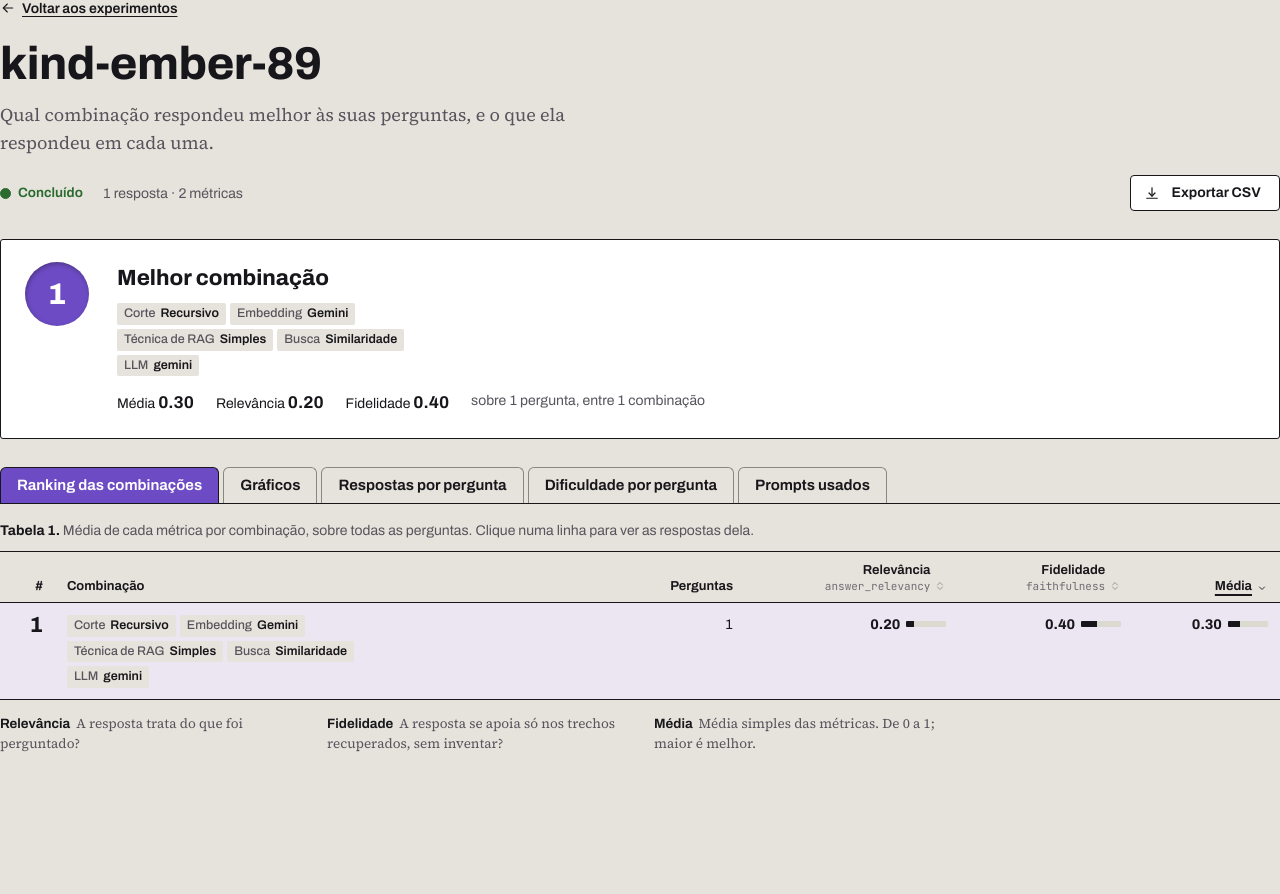
ExperimentDetailPage › shows the question type and bridge entities in the drawer
Step 1. Click the tab "Respostas por pergunta" → (422, 485), box [321,467,524,503]
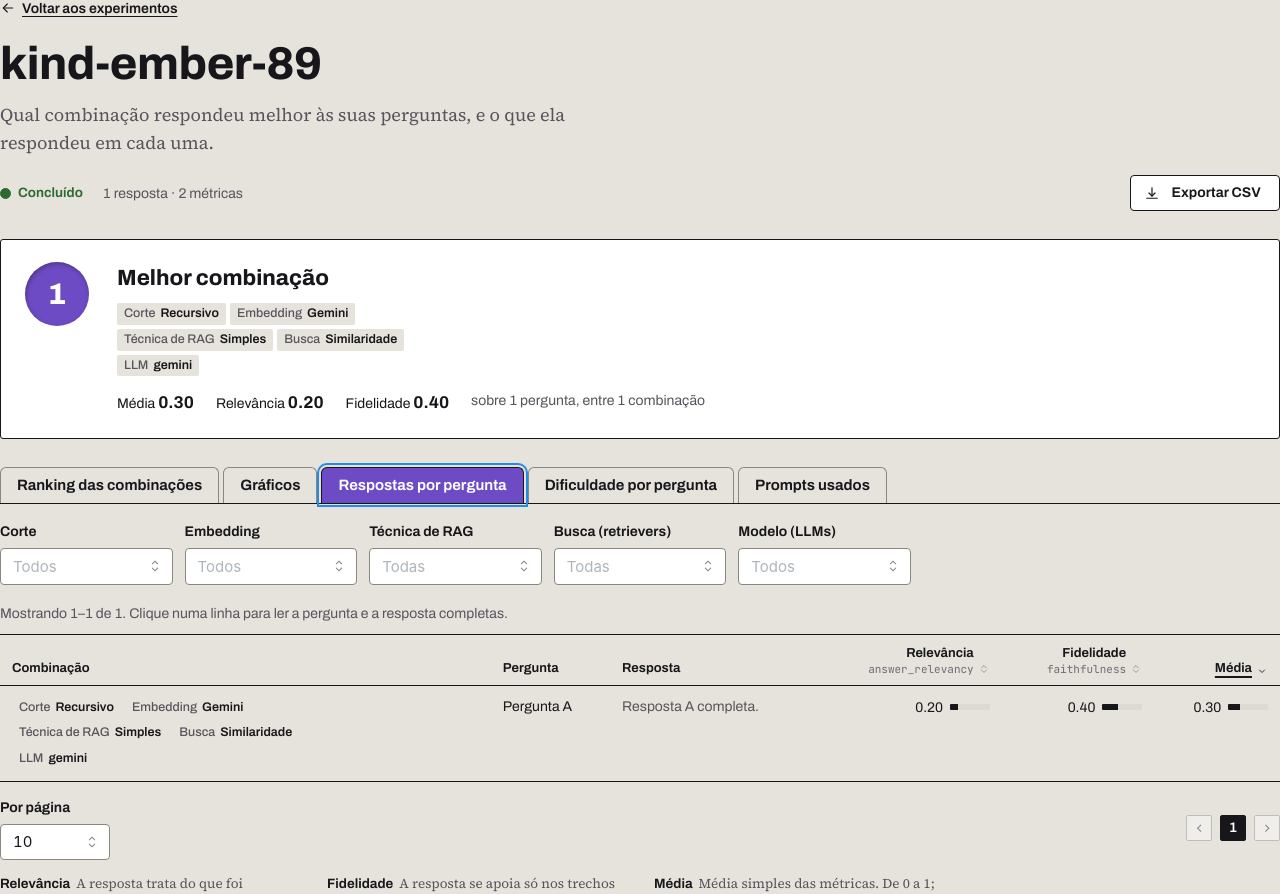
Step 2. Click the button "Pergunta A" → (537, 706), box [503,697,572,716]
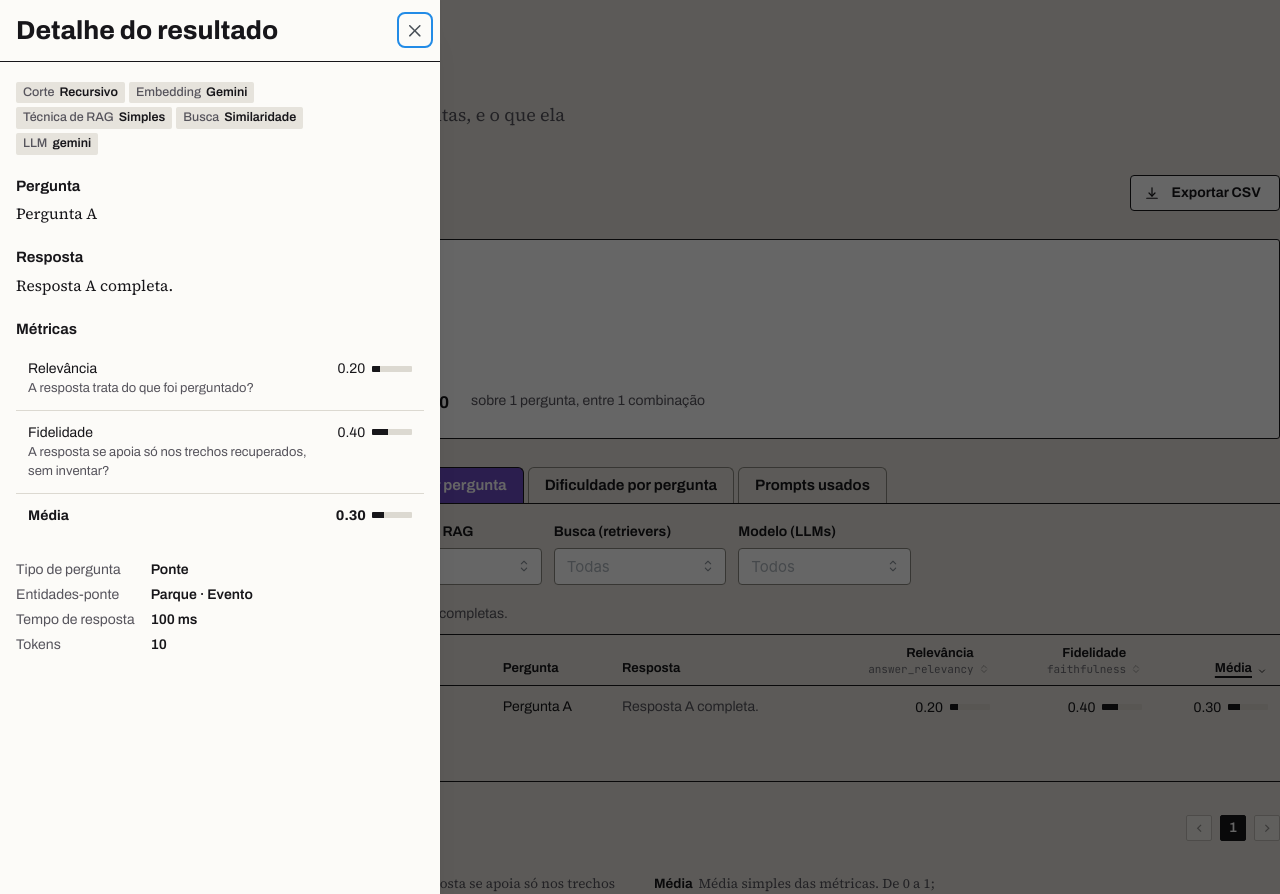
Result: the text "Ponte" is shown at [151,562,189,577]
Result: the text "Parque · Evento" is shown at [151,587,253,602]
